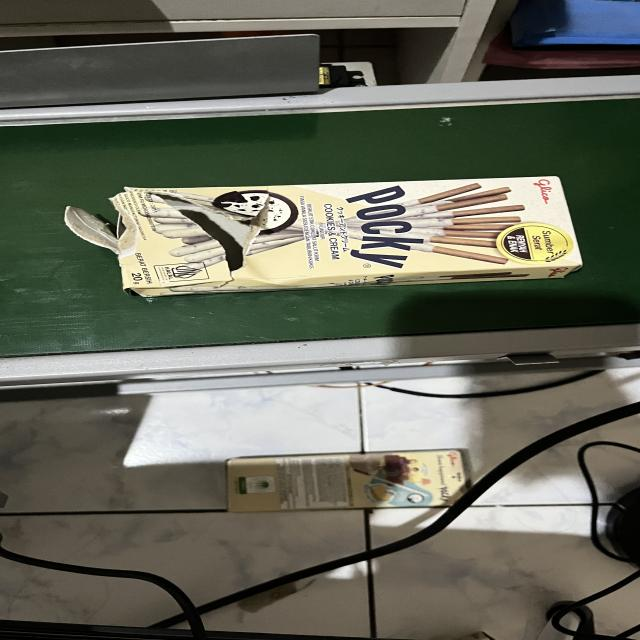Kertas: (110, 174, 587, 286)
